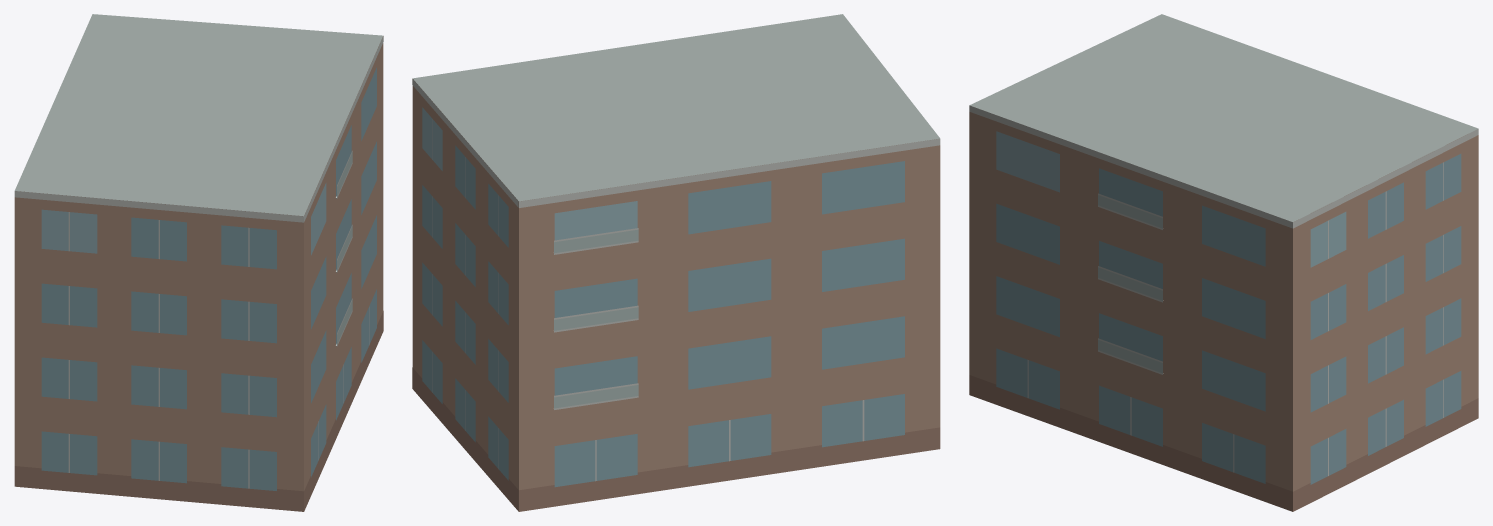
Rendered from survey-upis-32524468.glb.
3 views of the same model, side by side, from view 1: azimuth 30°, elevation 25°; view 2: azimuth 150°, elevation 25°; view 3: azimuth 270°, elevation 25° (orthographic). The views are drawn at different scales.
Visible parts, largest first — view 1: survey-upis-32524468.tmp; view 2: survey-upis-32524468.tmp; view 3: survey-upis-32524468.tmp.
Part boxes in pixels (x1,y1,x2,y2): survey-upis-32524468.tmp: (14,14,383,511); survey-upis-32524468.tmp: (412,14,940,511); survey-upis-32524468.tmp: (969,14,1478,511).
Bounding box in the file's own units: 17.28 × 11.2 × 17.86.
